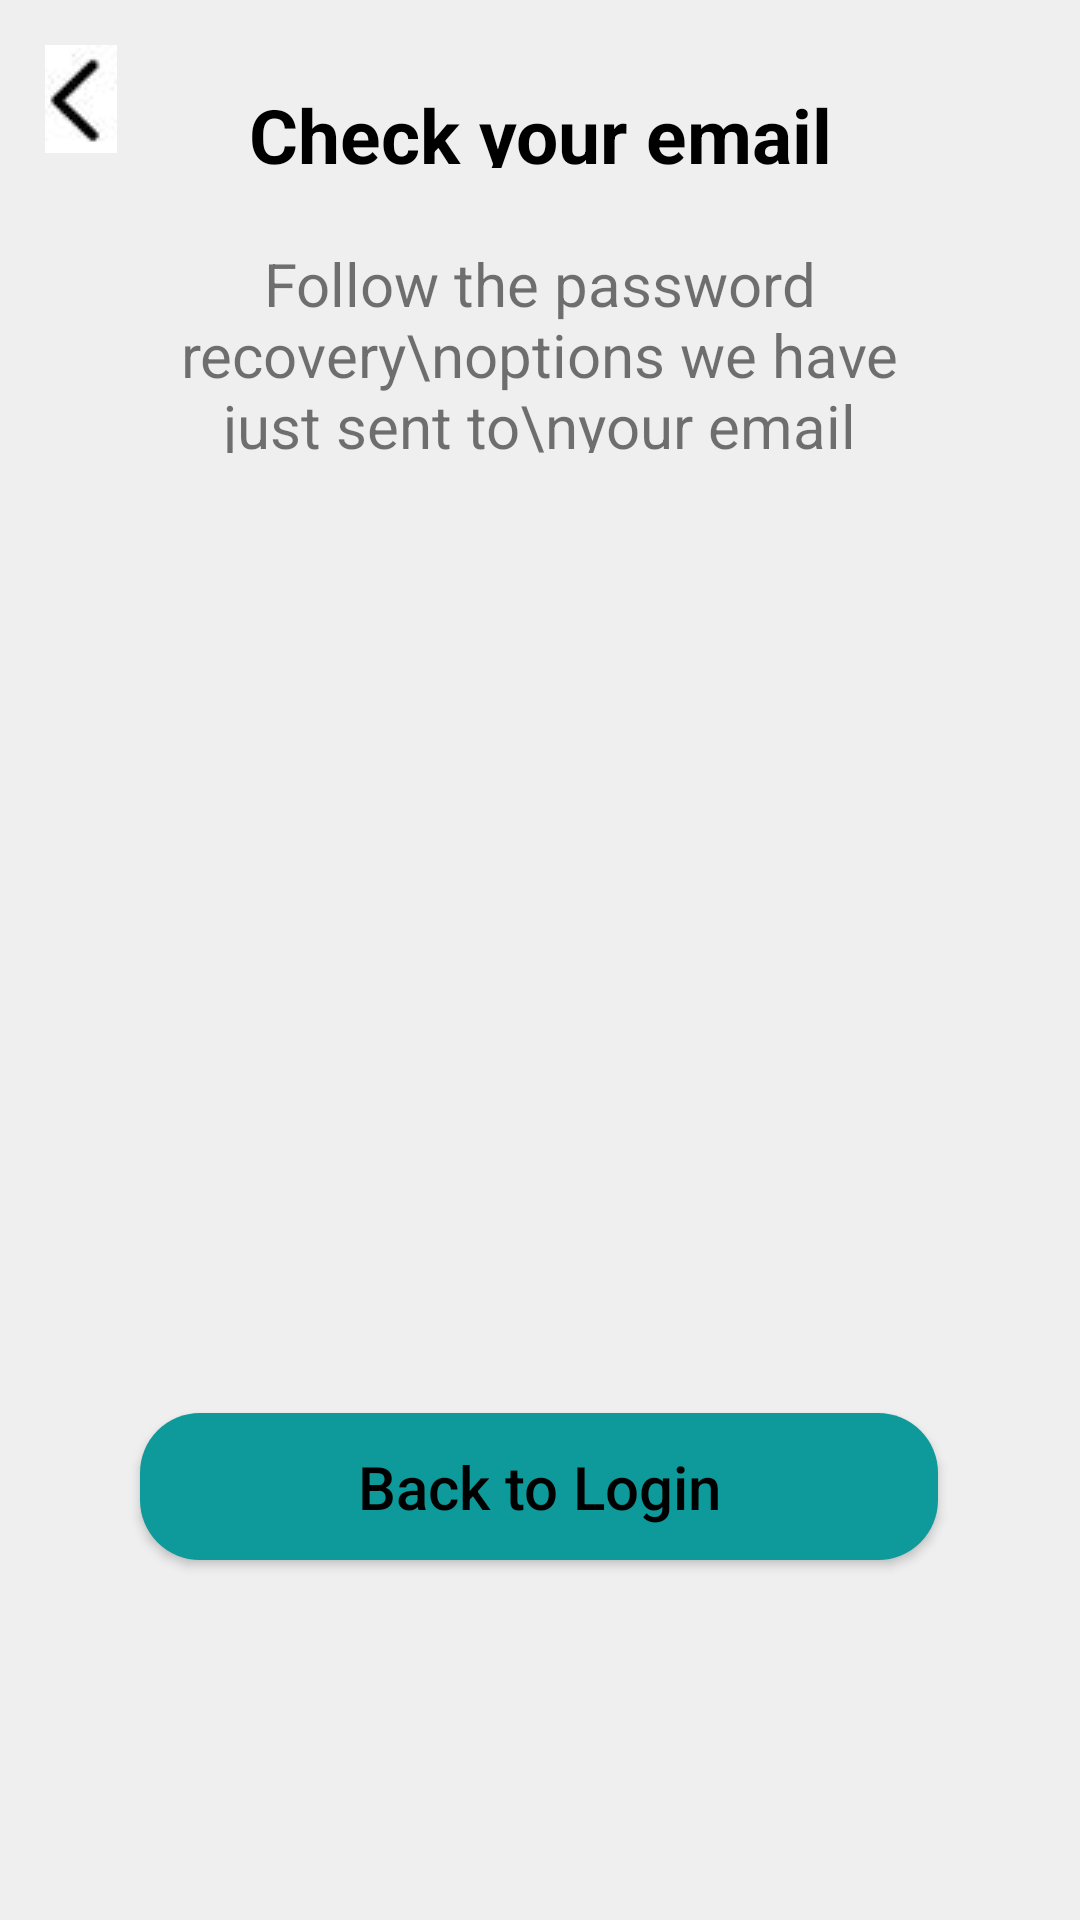

Where icons sit on this 1080×1920 app screen, as (x1, y1, x2, y2):
backicon: (45, 45, 117, 153)
